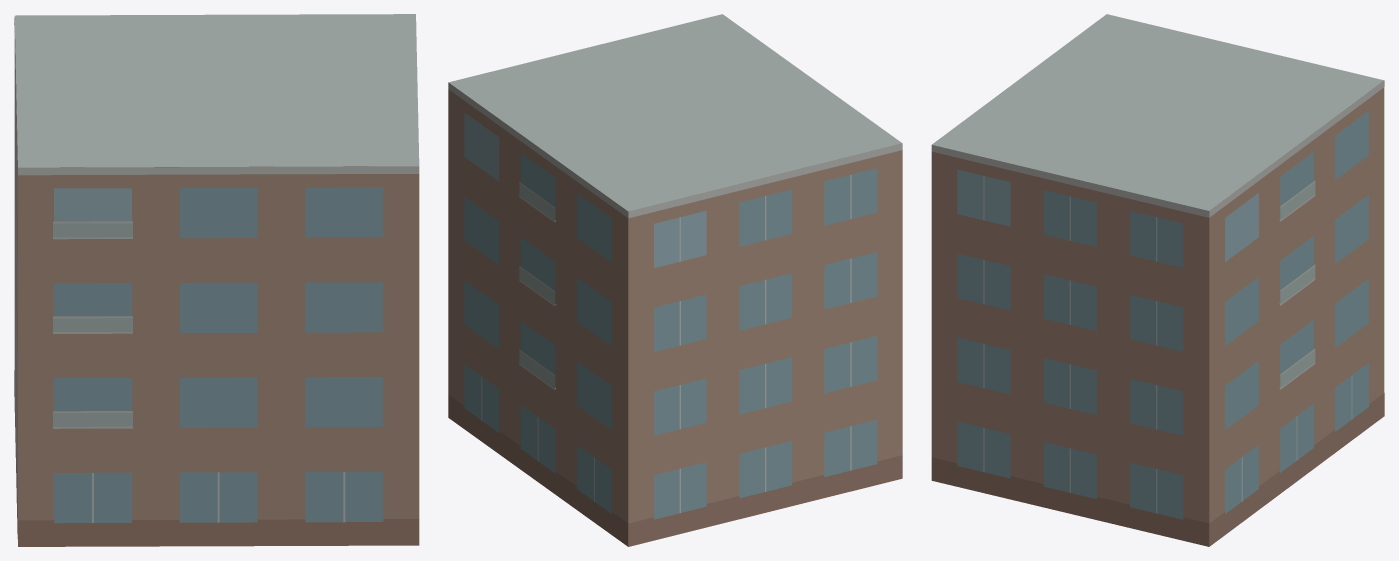
File: survey-upis-32777509.glb
3 renders of one model, left to right at view 1: azimuth 30°, elevation 25°; view 2: azimuth 150°, elevation 25°; view 3: azimuth 270°, elevation 25°, orthographic. The views are drawn at different scales.
Parts seen in each view (by area): view 1: survey-upis-32777509.tmp; view 2: survey-upis-32777509.tmp; view 3: survey-upis-32777509.tmp.
Boxes of the visible parts, x1,y1,x2,y2 form: survey-upis-32777509.tmp: [14, 14, 419, 546]; survey-upis-32777509.tmp: [448, 14, 902, 546]; survey-upis-32777509.tmp: [931, 14, 1384, 546].
Size of the model in its own units: 15.18 by 12.06 by 14.74.
